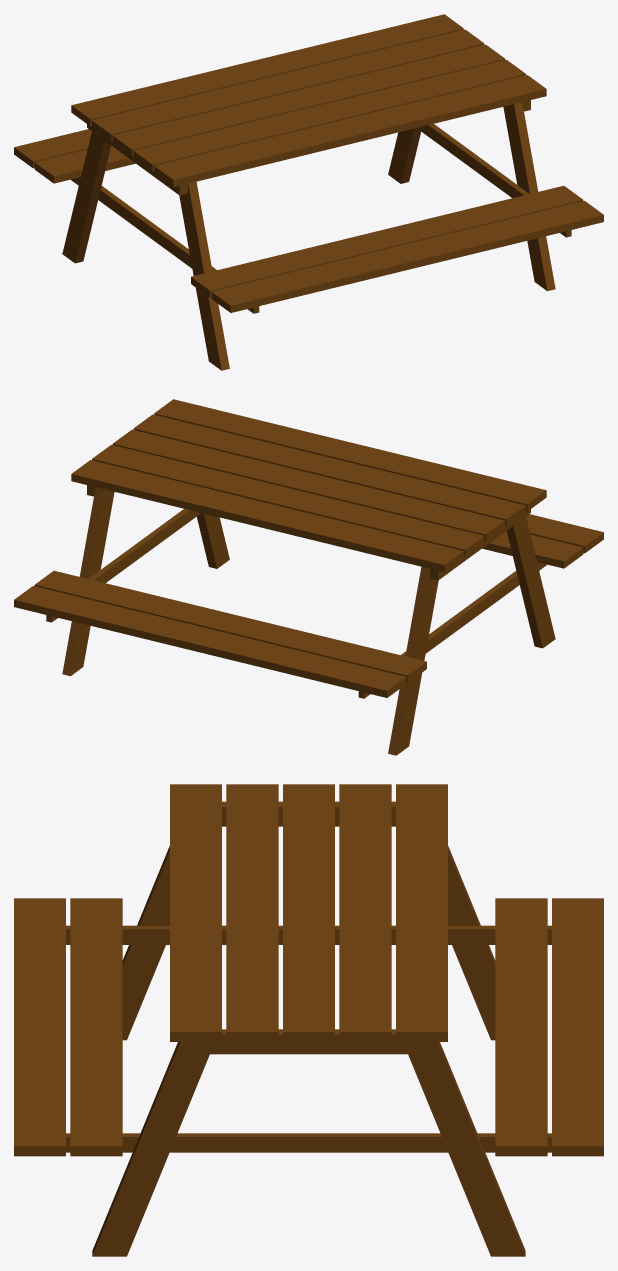
File: M_Sem4_Prop_PicknickBank_FHaufe (1) 1.fbx
3 views of the same model, one above another, from view 1: azimuth 30°, elevation 25°; view 2: azimuth 150°, elevation 25°; view 3: azimuth 270°, elevation 25° (orthographic). The views are drawn at different scales.
Visible parts, largest first — view 1: pCube1; view 2: pCube1; view 3: pCube1.
Boxes of the visible parts, x1=… form: pCube1: x1=14, y1=14, x2=603, y2=370; pCube1: x1=14, y1=399, x2=603, y2=755; pCube1: x1=14, y1=784, x2=603, y2=1256.
Bounding box in the file's own units: 135 × 60.34 × 136.
